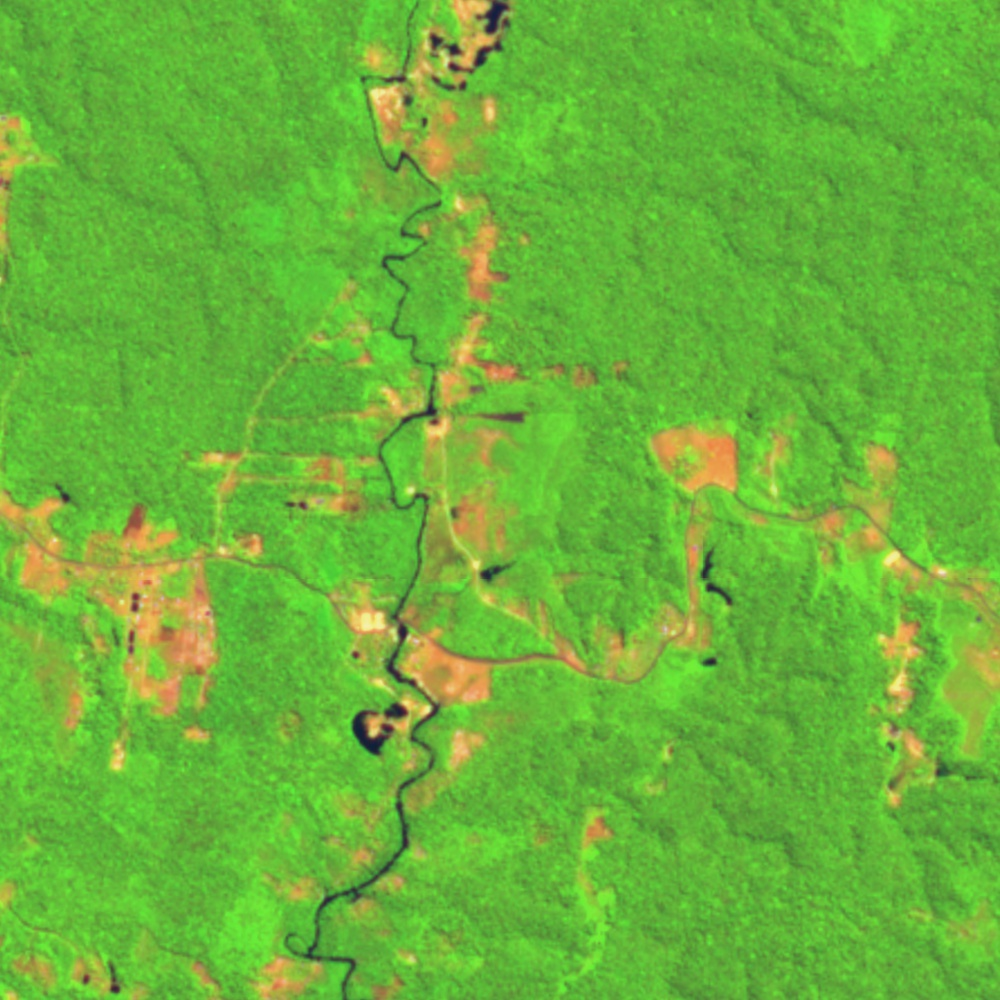legal: (1, 481, 219, 769), (363, 1, 510, 189), (325, 577, 514, 714), (264, 774, 438, 908), (421, 310, 629, 419), (889, 551, 1000, 749), (413, 413, 530, 576), (866, 614, 948, 813), (495, 587, 662, 683), (189, 445, 393, 519), (807, 435, 908, 582), (407, 190, 535, 305), (338, 679, 492, 765), (553, 802, 620, 998), (656, 539, 737, 674), (1, 110, 61, 266), (304, 270, 390, 373), (639, 415, 742, 498), (189, 951, 325, 1000), (356, 368, 425, 433), (754, 408, 801, 501), (637, 728, 688, 802), (67, 942, 122, 1000), (368, 946, 422, 1000), (7, 948, 61, 994), (212, 526, 264, 561), (277, 708, 303, 741)
